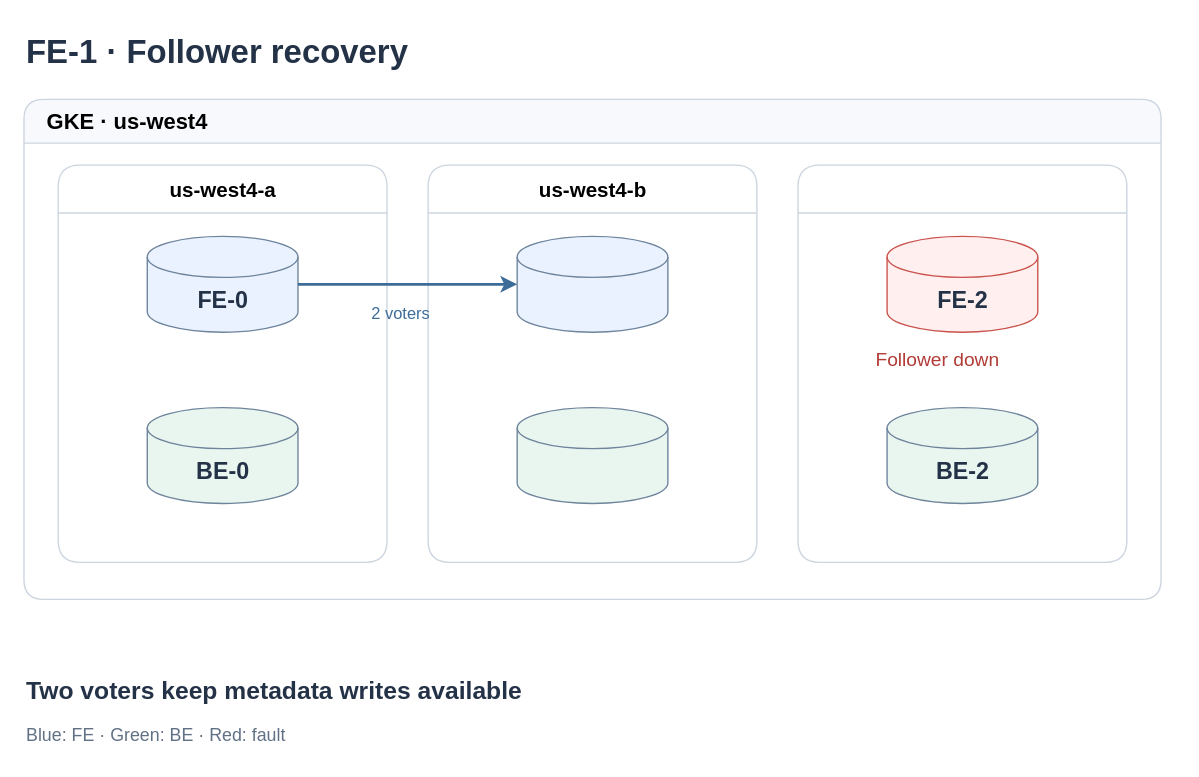
The diagram is 1199 pixels wide and 777 high, and some of its shapes have lost their labels. The box of each missing label's shape, as (x1, y1, x2, y2) in pixels:
BE-1: (516, 406, 668, 503)
FE-1: (516, 235, 668, 332)
us-west4-c: (797, 164, 1127, 562)
